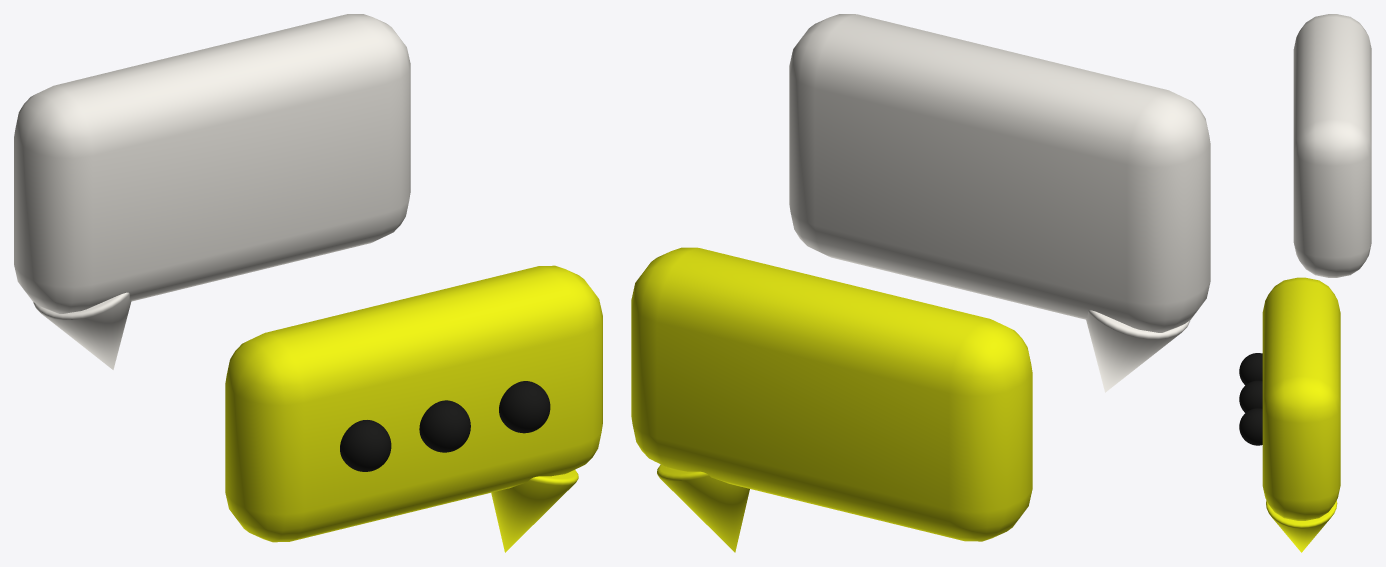
The model's file is chat.glb.
3 views of the same model, side by side, from view 1: azimuth 30°, elevation 25°; view 2: azimuth 150°, elevation 25°; view 3: azimuth 270°, elevation 25° (orthographic). The views are drawn at different scales.
Parts seen in each view (by area): view 1: box, box.001, cyl.001, cyl, sph.002, sph.001, sph; view 2: box, box.001, cyl.001, cyl; view 3: box, box.001, cyl.001, sph.002, sph.001, sph.
Boxes of the visible parts, box(x1,y1,x2,y2) form: box: box(14, 14, 410, 313); box.001: box(225, 265, 602, 542); cyl.001: box(491, 470, 578, 552); cyl: box(33, 292, 131, 369); sph.002: box(499, 381, 550, 433); sph.001: box(419, 400, 470, 452); sph: box(340, 420, 391, 471); box: box(789, 14, 1210, 332); box.001: box(631, 247, 1032, 541); cyl.001: box(657, 464, 749, 552); cyl: box(1086, 310, 1190, 392); box: box(1293, 14, 1371, 277); box.001: box(1262, 277, 1340, 520); cyl.001: box(1266, 500, 1337, 552); sph.002: box(1239, 408, 1262, 445); sph.001: box(1239, 380, 1262, 412); sph: box(1239, 353, 1262, 385).
Bounding box in the file's own units: 2.9 × 2.76 × 0.85.
